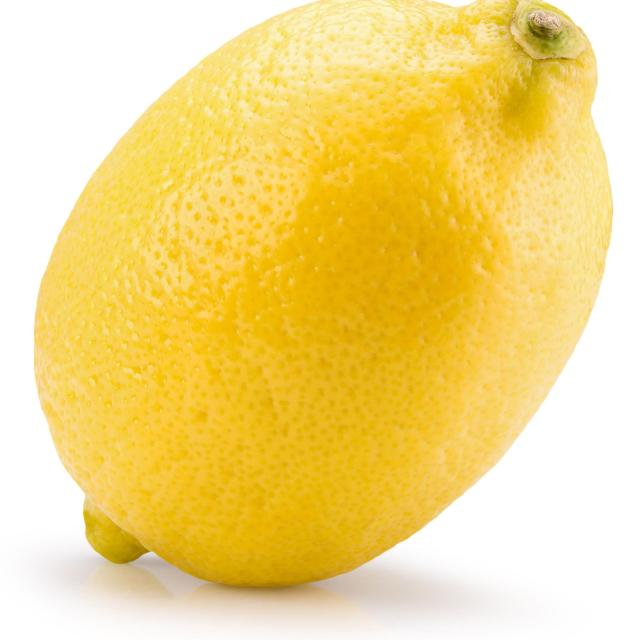lemon: (20, 1, 626, 628)
